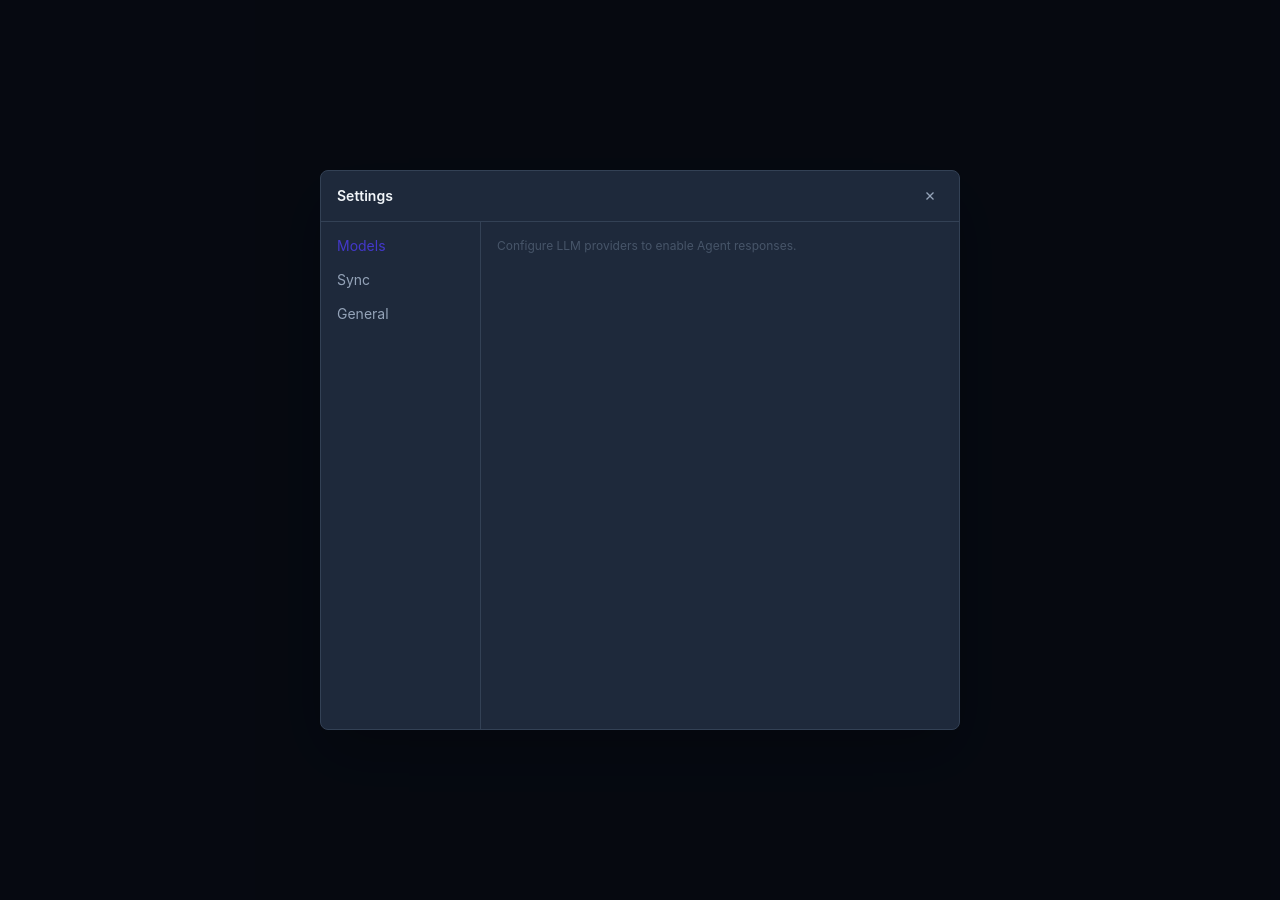
Scenario: SettingsModal › should switch to general tab and show theme options
The width and height of the screenshot is (1280, 900).
Click the button "general" at (400, 314), box [329,298,472,330]
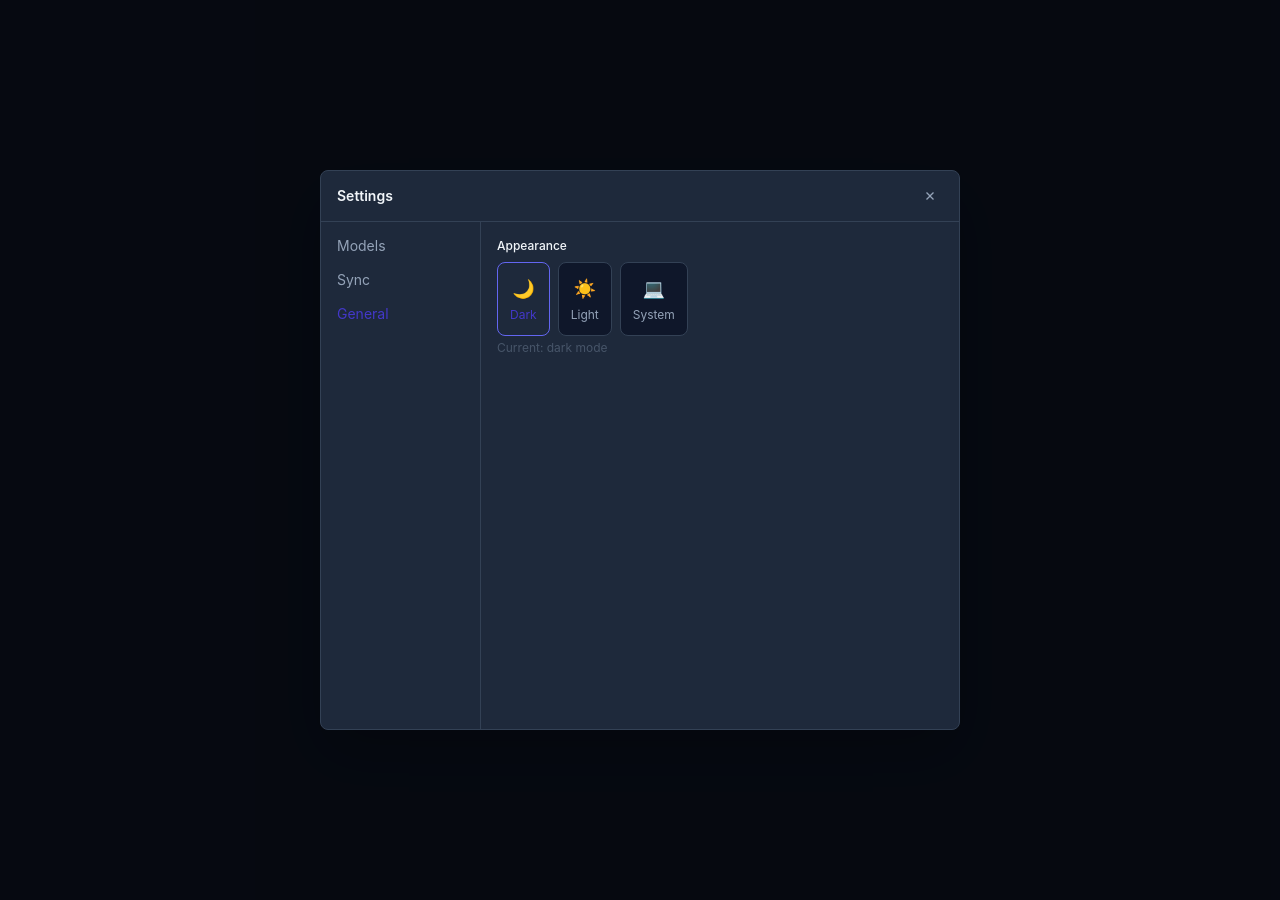
Expected: the heading "Appearance" is shown, [497,238,567,253]
